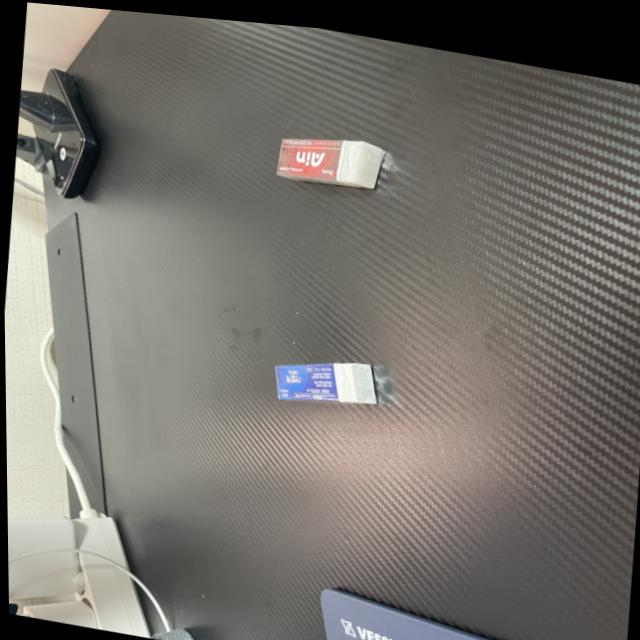blue: (268, 337, 383, 412)
red: (268, 114, 390, 193)
